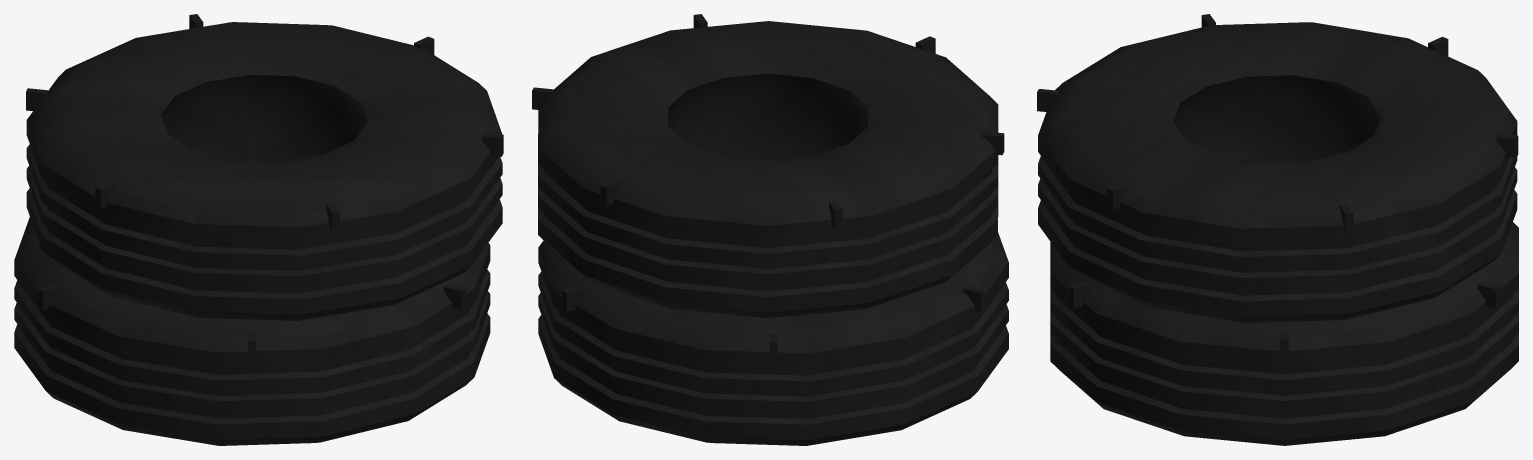
File: pilha-de-pneus-2.glb
3 renders of one model, left to right at view 1: azimuth 30°, elevation 25°; view 2: azimuth 150°, elevation 25°; view 3: azimuth 270°, elevation 25°, orthographic.
Parts seen in each view (by area): view 1: pneu-1, pneu-0; view 2: pneu-1, pneu-0; view 3: pneu-1, pneu-0.
Boxes of the visible parts, <box> form: pneu-1: <box>26,22,502,320</box>; pneu-0: <box>14,217,490,445</box>; pneu-1: <box>538,21,998,318</box>; pneu-0: <box>538,232,1008,445</box>; pneu-1: <box>1038,22,1517,322</box>; pneu-0: <box>1050,222,1518,445</box>.
Size of the model in its own units: 0.709 by 0.4 by 0.6917.
1 material, 1 textured.
